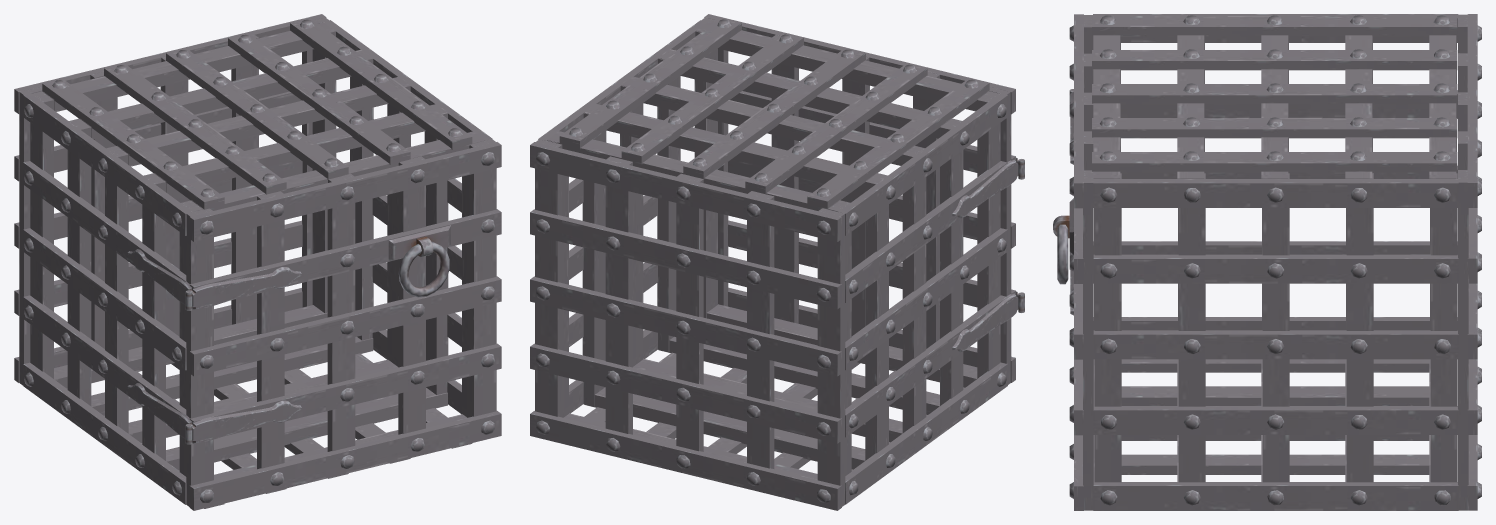
Rendered from cage-DQF3qnH5.glb.
3 views of the same model, side by side, from view 1: azimuth 30°, elevation 25°; view 2: azimuth 150°, elevation 25°; view 3: azimuth 270°, elevation 25° (orthographic). The views are drawn at different scales.
Parts seen in each view (by area): view 1: Cage_Small; view 2: Cage_Small; view 3: Cage_Small.
Part boxes in pixels (x1,y1,x2,y2): Cage_Small: [14, 14, 501, 510]; Cage_Small: [530, 14, 1024, 510]; Cage_Small: [1053, 14, 1481, 510].
Size of the model in its own units: 2.22 by 2.09 by 2.3.
Materials: 1 (1 with a texture image).
